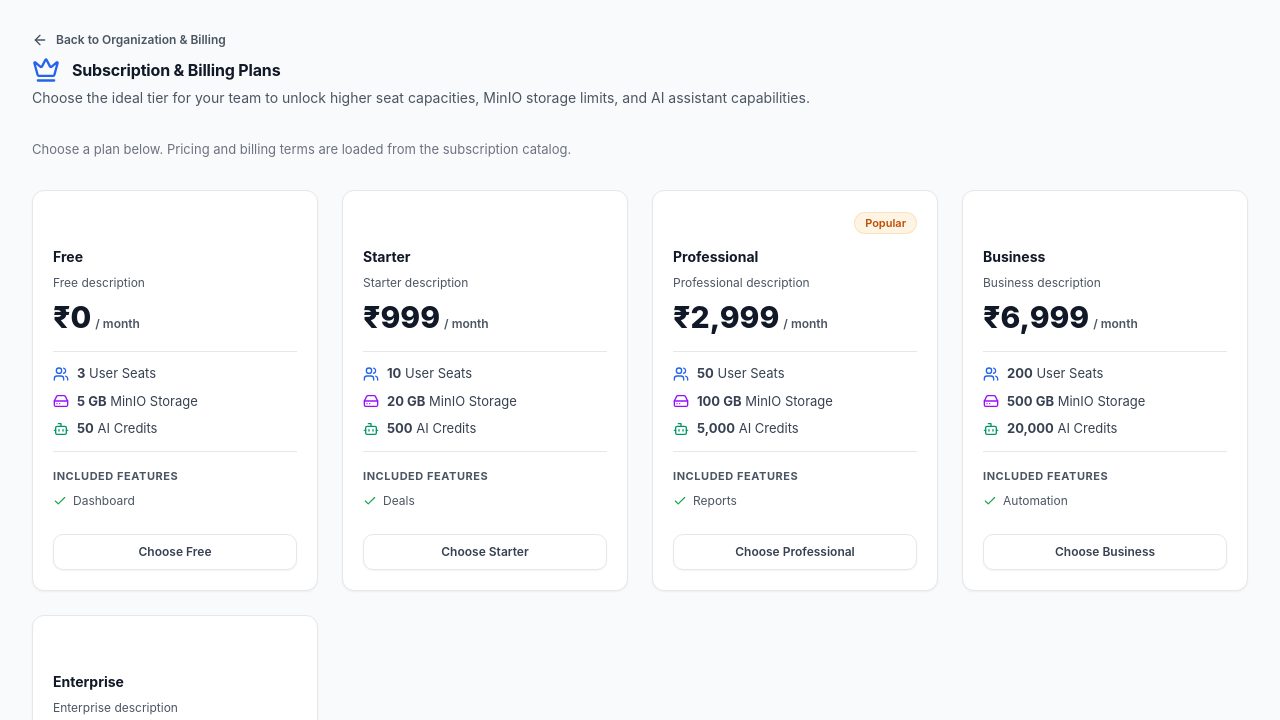
Test: allows selecting every tier and keeps only the latest card selected
Click the button "Choose Free" at (175, 552), box [53,534,297,570]
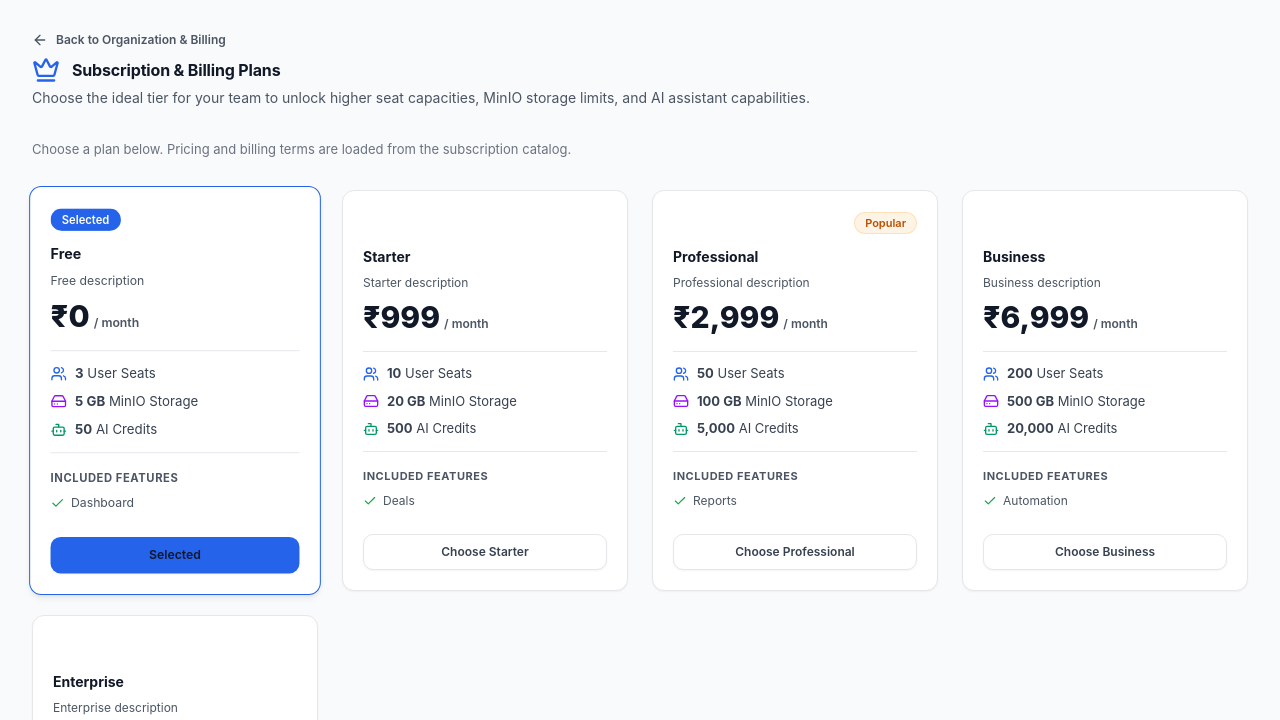
Click the button "Choose Starter" at (485, 552), box [363,534,607,570]
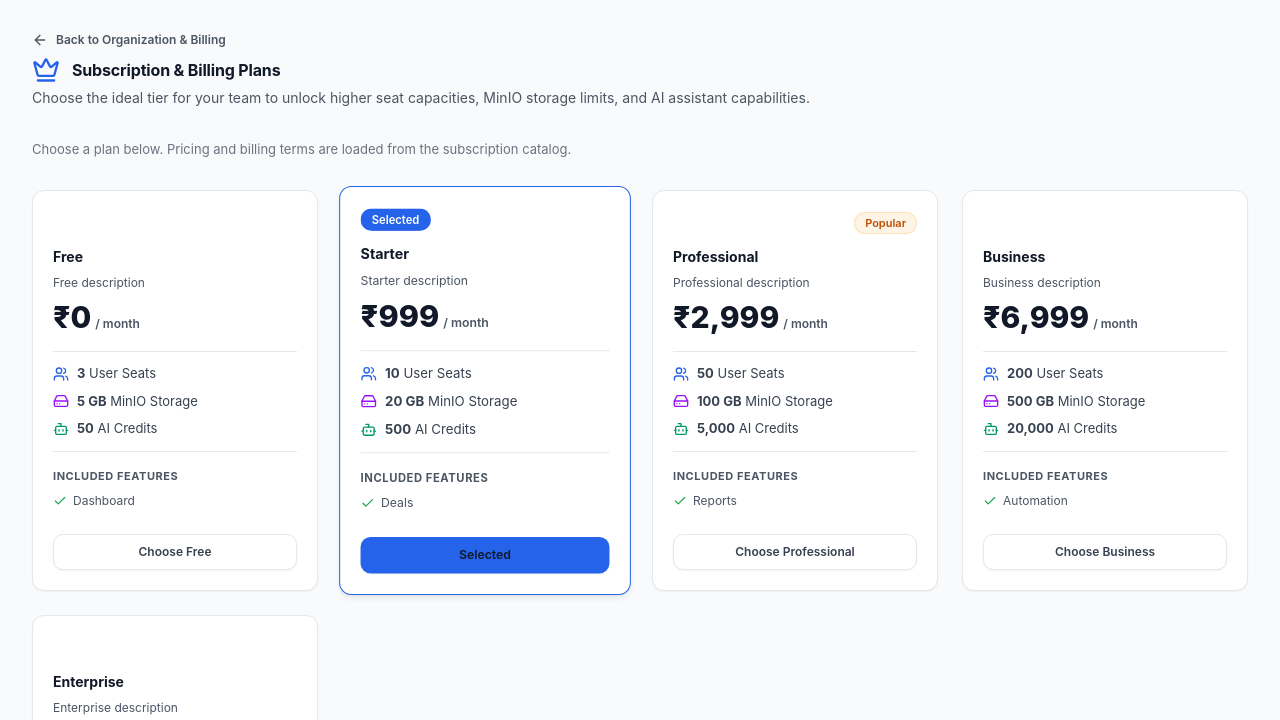
Click the button "Choose Professional" at (795, 552), box [673,534,917,570]
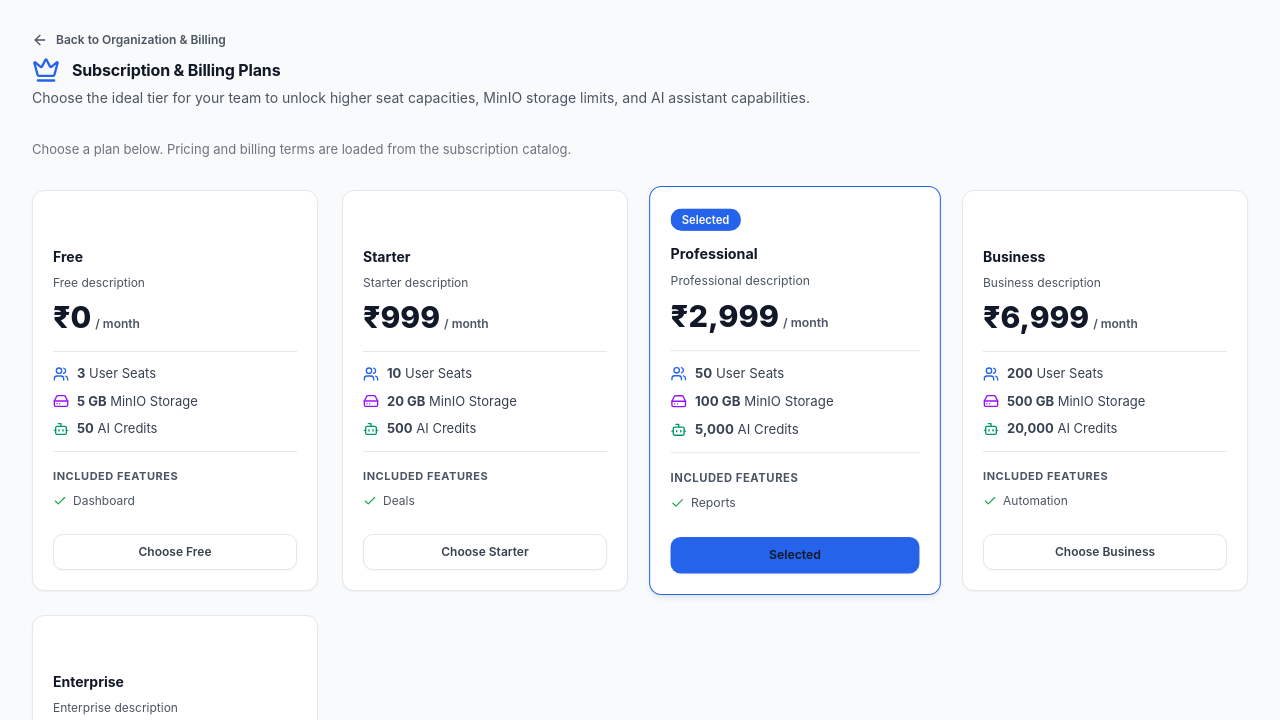
Click the button "Choose Business" at (1105, 552), box [983,534,1227,570]
(page scrolled)
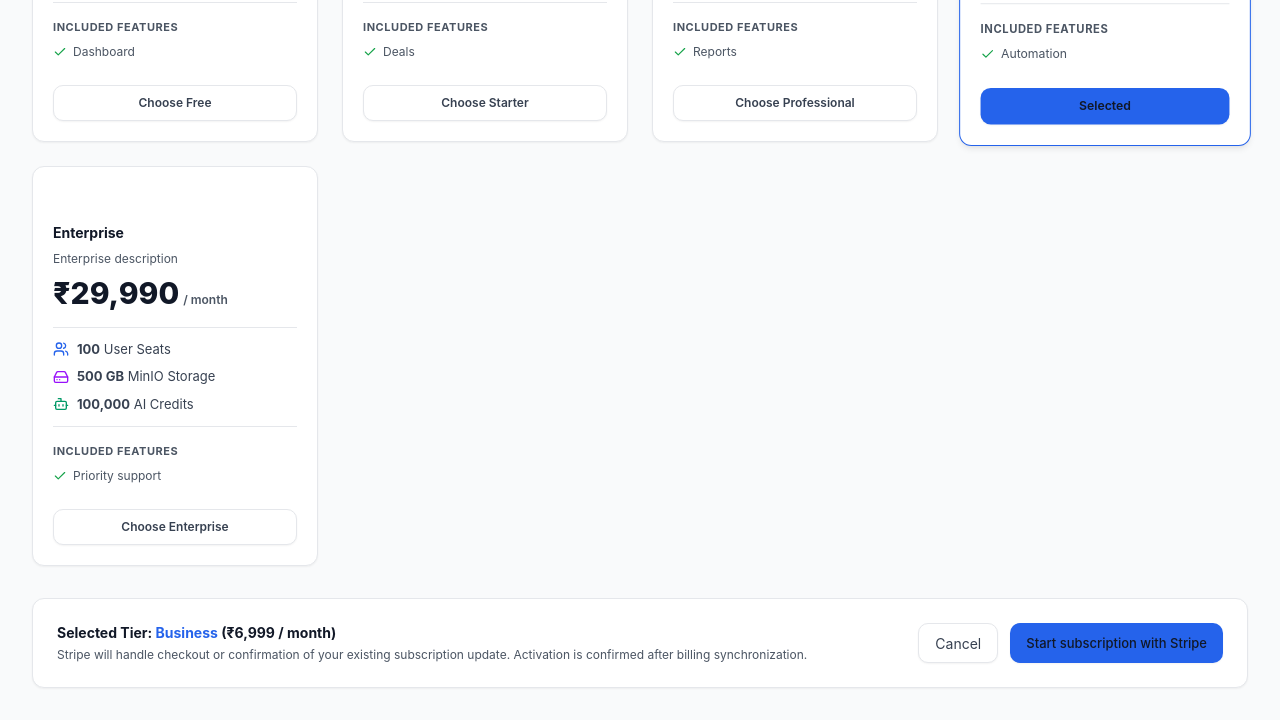
Expected: the text "Selected Tier: Business (₹6,999 / month)" is shown, [57,624,336,641]
Click the button "Choose Enterprise" at (175, 527), box [53,509,297,545]
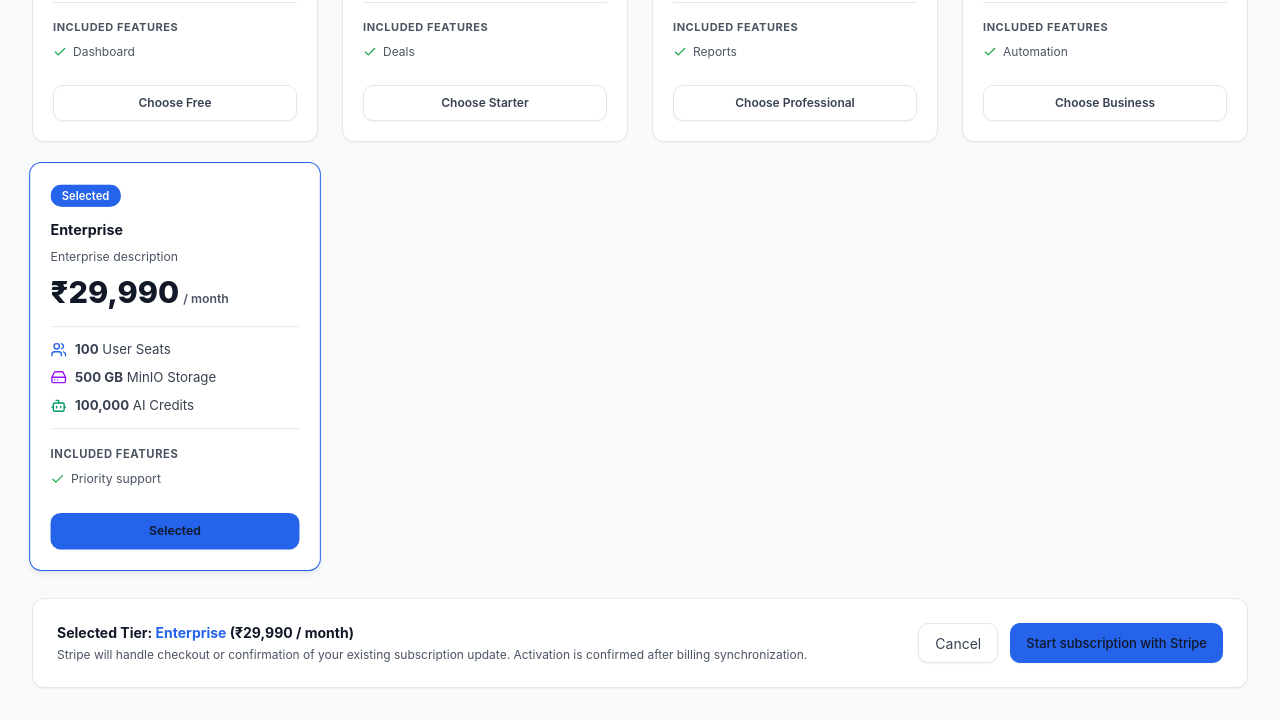
Expected: the text "Selected" is shown 2 times, [51,184,121,207]; [51,512,300,549]
Expected: the text "Selected Tier: Enterprise (₹29,990 / month)" is shown, [57,624,354,641]
Expected: the button "Selected" is shown, [51,512,300,549]
